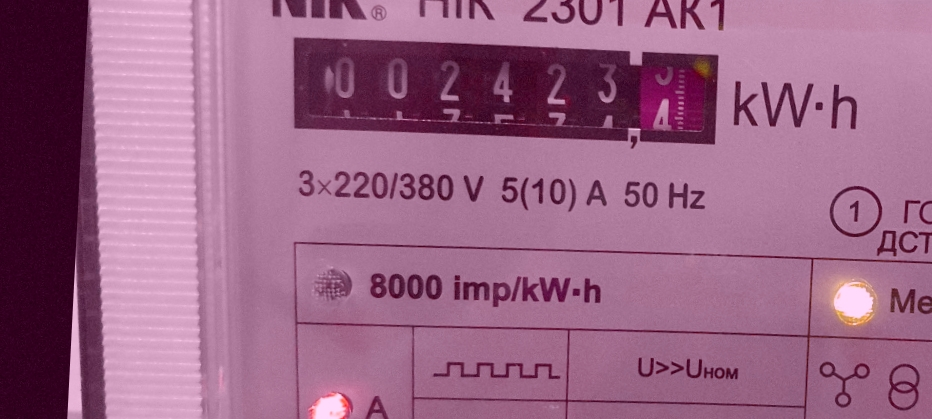0: (330, 52, 359, 102), (383, 55, 410, 101)
2: (435, 56, 463, 104), (542, 61, 568, 108)
3: (594, 60, 619, 106), (652, 63, 675, 87)
4: (489, 59, 514, 105), (648, 94, 675, 133)
screen: (277, 22, 733, 162)
